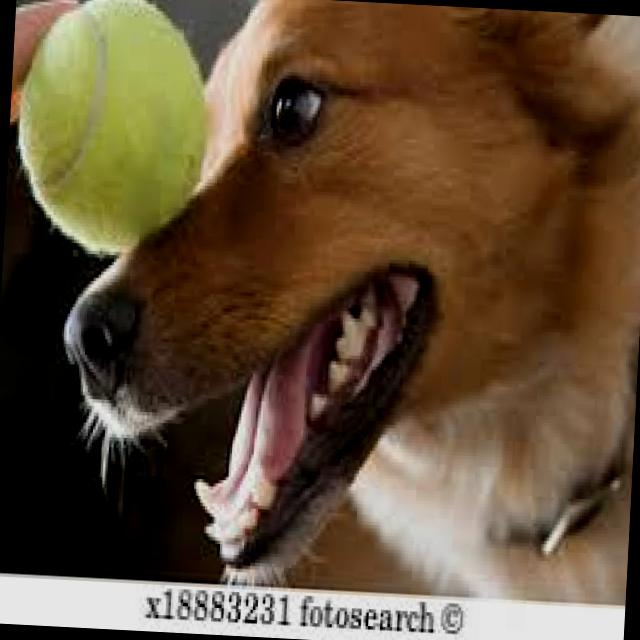Tennis Ball: (14, 0, 215, 259)
